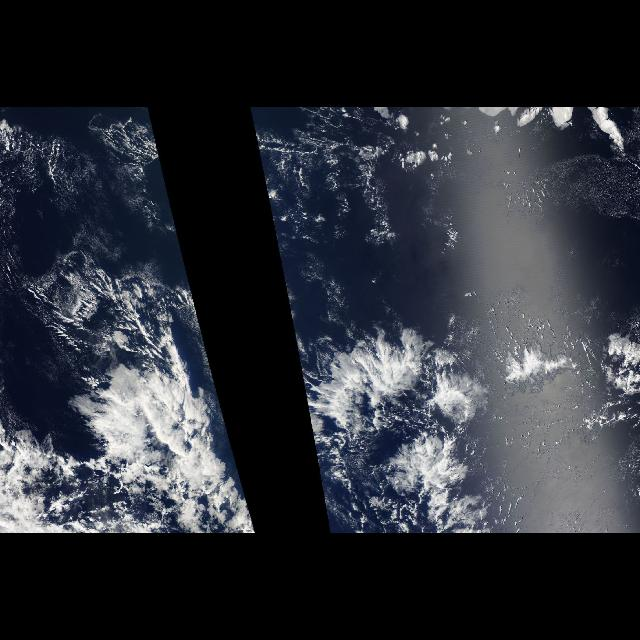Fish: (71, 343, 257, 533), (290, 314, 440, 440)
Flower: (330, 318, 640, 444)
